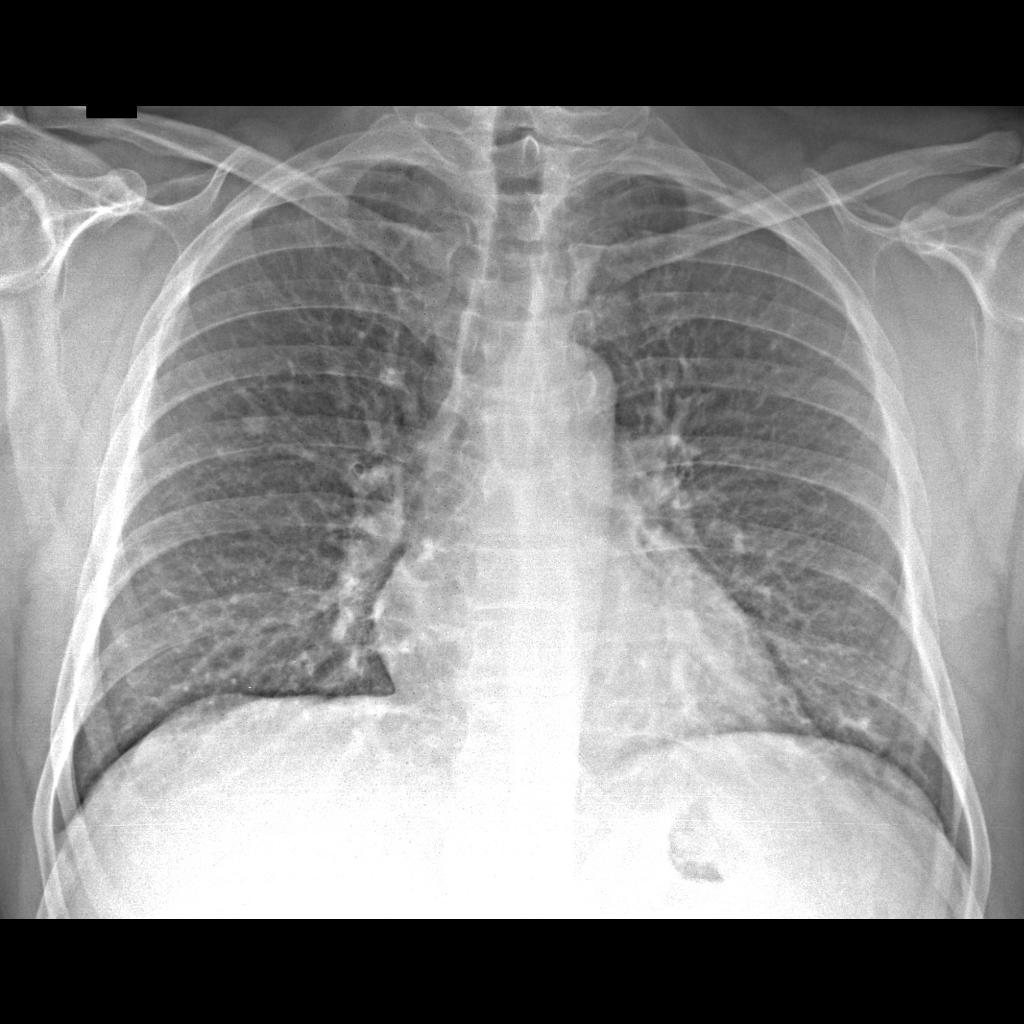Nodule: (235, 403, 282, 447)
